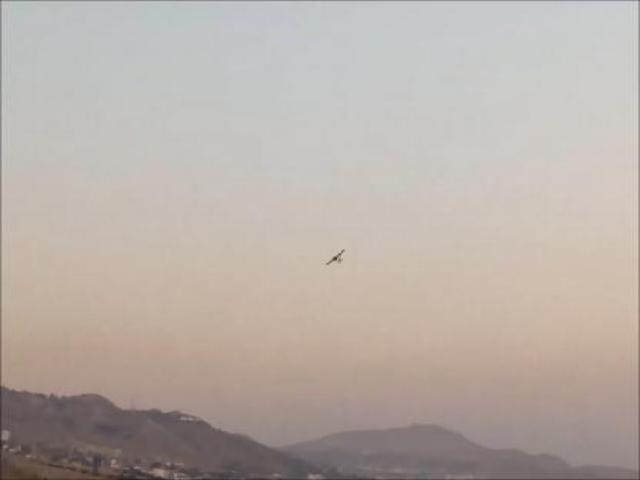uav: (318, 239, 353, 274)
